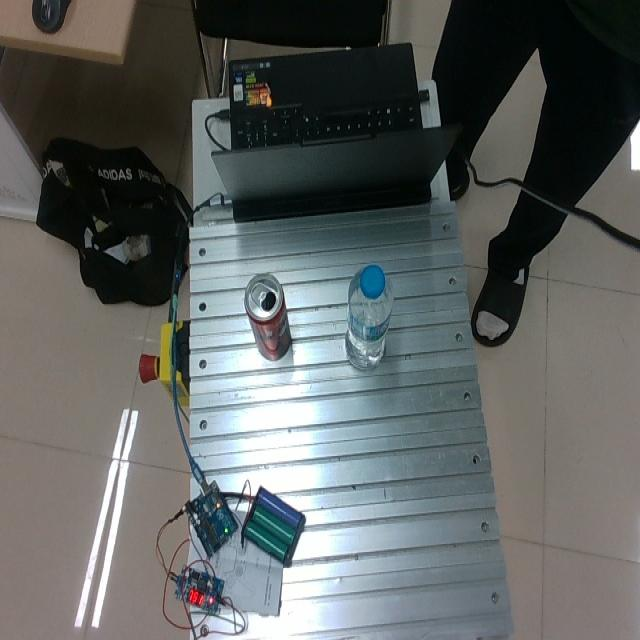coca: (243, 272, 290, 360)
lavie: (344, 264, 393, 371)
